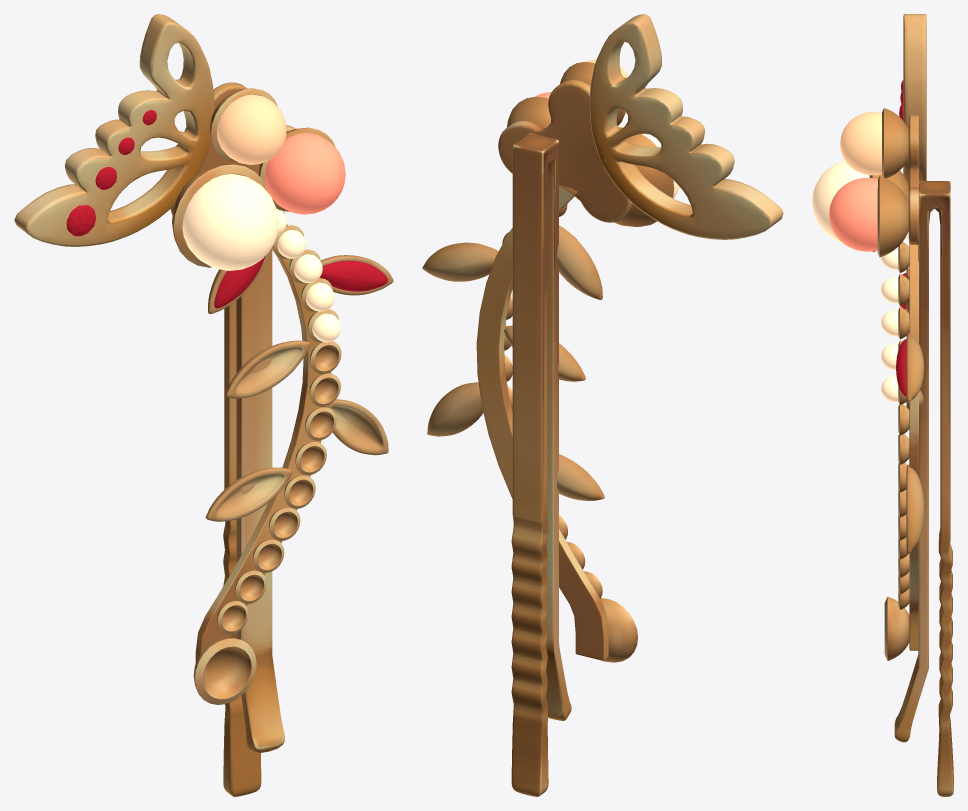
The picture shows the model from 3 angles, left to right: view 1: azimuth 30°, elevation 25°; view 2: azimuth 150°, elevation 25°; view 3: azimuth 270°, elevation 25°; orthographic projection. The views are drawn at different scales.
Parts seen in each view (by area): view 1: hairakuse; view 2: hairakuse; view 3: hairakuse.
Part boxes in pixels (x1,y1,x2,y2): hairakuse: [14, 14, 393, 796]; hairakuse: [422, 14, 783, 796]; hairakuse: [812, 14, 953, 796].
Size of the model in its own units: 72.64 by 152 by 26.6.
